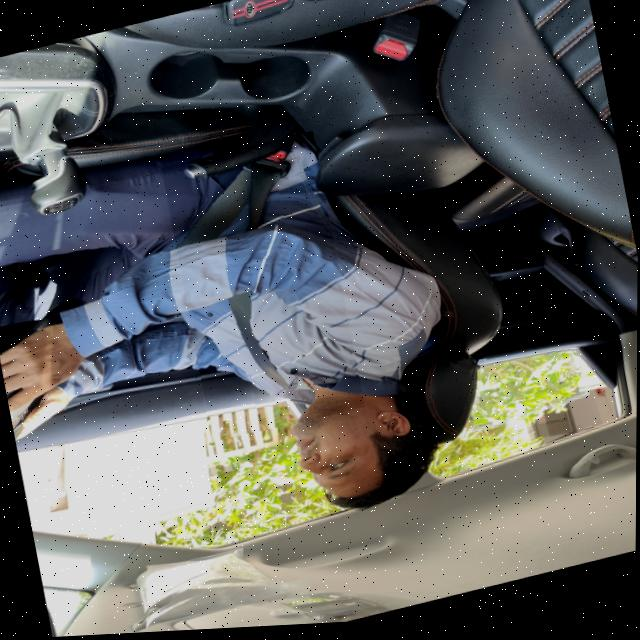seatbelt: (159, 132, 366, 448)
